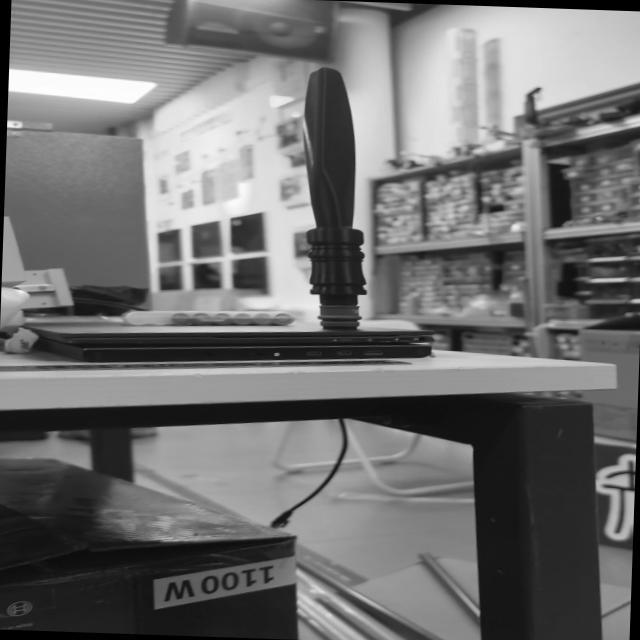base: (308, 300, 370, 334)
